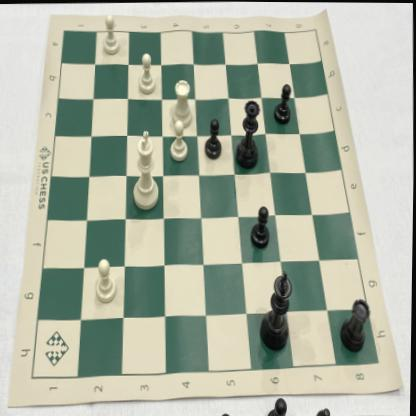black-king: (258, 267, 295, 356)
black-pawn: (249, 202, 273, 251), (204, 116, 225, 161), (273, 80, 293, 125)
black-queen: (234, 94, 262, 172)
black-rook: (338, 296, 373, 356)
white-king: (130, 127, 163, 213)
white-pawn: (92, 257, 119, 306), (166, 116, 190, 164), (134, 49, 158, 95), (99, 12, 121, 57)
white-rook: (169, 76, 195, 131)
